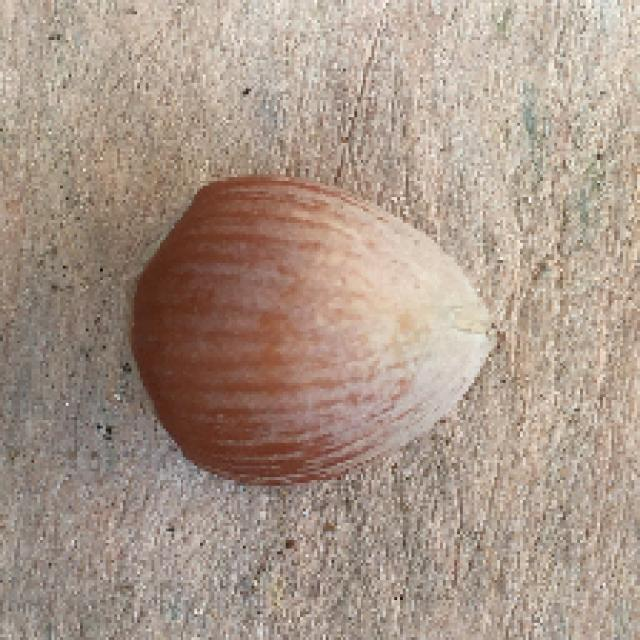QualityHazelnut: (130, 171, 500, 488)
